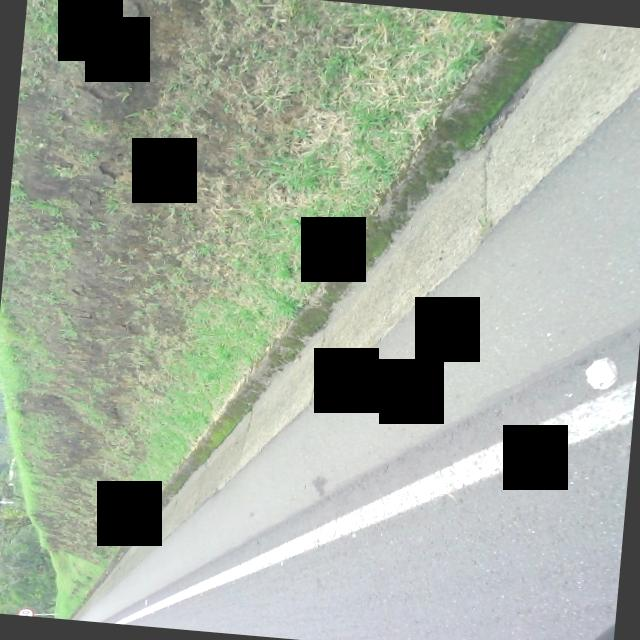DITCH: (23, 0, 640, 640), (24, 0, 640, 640), (69, 0, 640, 640)
